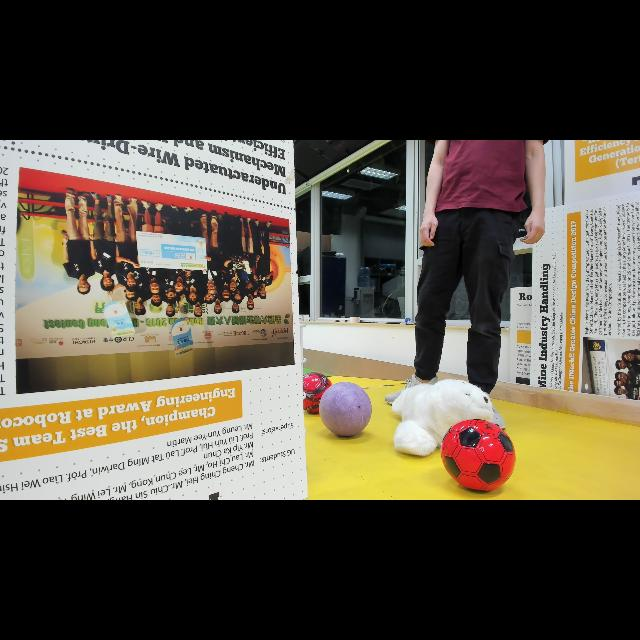P: (314, 380, 376, 440)
R: (436, 415, 520, 495), (296, 369, 340, 418)
